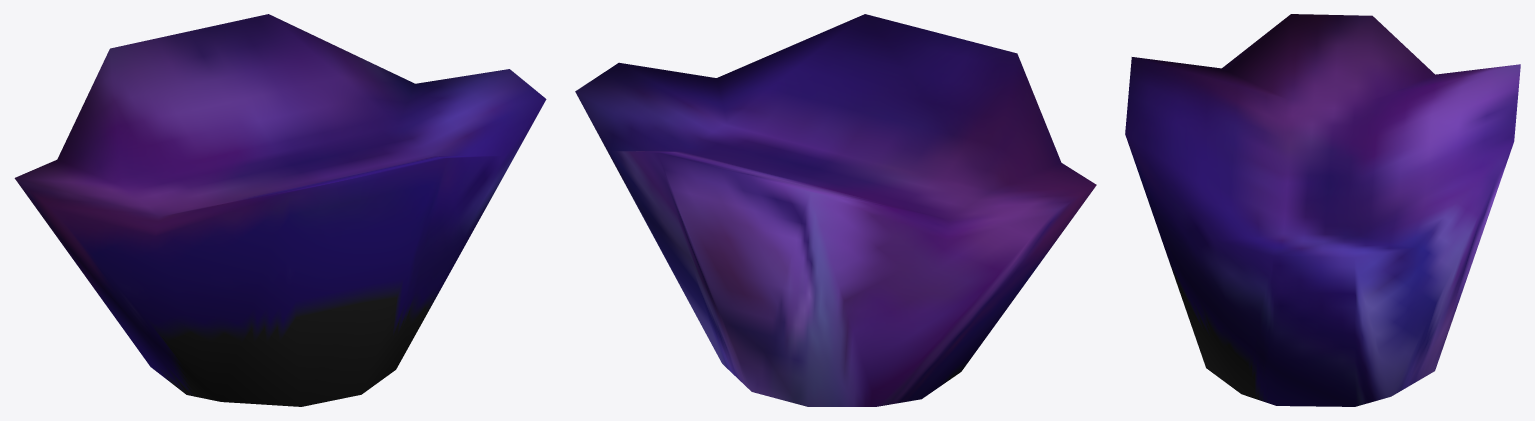
The model's file is Sea_xiaoshitou02.FBX.
3 renders of one model, left to right at view 1: azimuth 30°, elevation 25°; view 2: azimuth 150°, elevation 25°; view 3: azimuth 270°, elevation 25°, orthographic.
Parts seen in each view (by area): view 1: xiaoshitou02; view 2: xiaoshitou02; view 3: xiaoshitou02.
Boxes of the visible parts, bbox=[...] form: xiaoshitou02: bbox=[14, 14, 546, 406]; xiaoshitou02: bbox=[575, 14, 1096, 406]; xiaoshitou02: bbox=[1125, 14, 1520, 406].
Bounding box in the file's own units: 0.1076 × 0.0539 × 0.0748.
